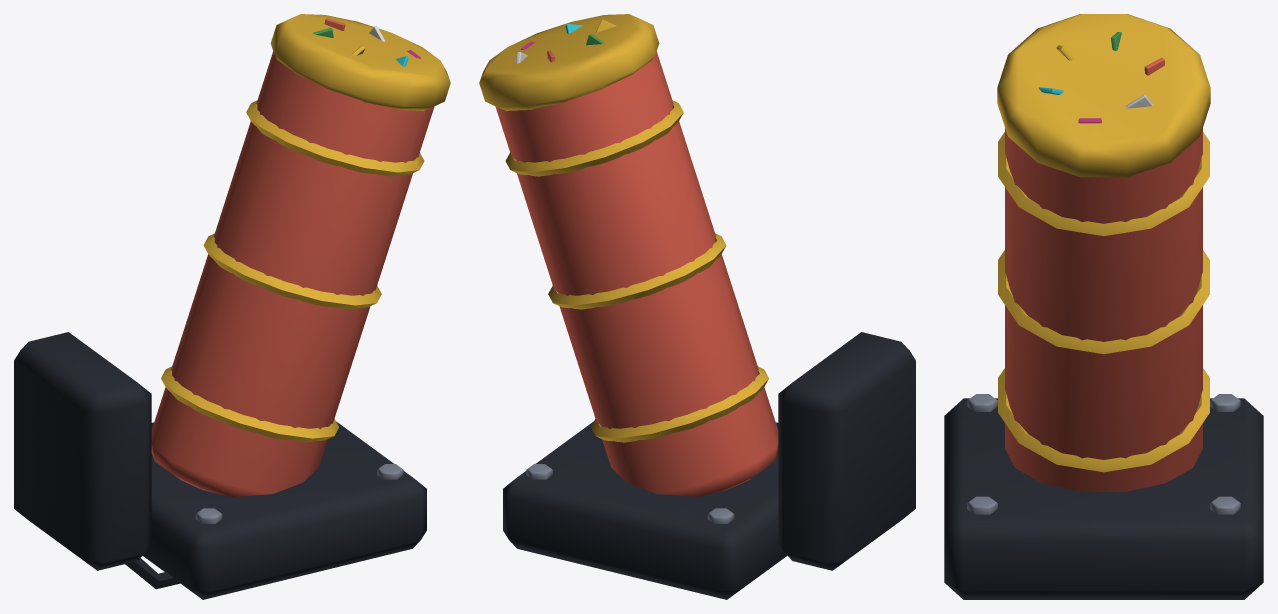
Rendered from SM_Fx_ConfettiCannon.fbx.
3 renders of one model, left to right at view 1: azimuth 30°, elevation 25°; view 2: azimuth 150°, elevation 25°; view 3: azimuth 270°, elevation 25°, orthographic. The views are drawn at different scales.
Visible parts, largest first — view 1: SM_Fx_ConfettiCannon; view 2: SM_Fx_ConfettiCannon; view 3: SM_Fx_ConfettiCannon.
Boxes of the visible parts, x1=… form: SM_Fx_ConfettiCannon: x1=14, y1=14, x2=450, y2=599; SM_Fx_ConfettiCannon: x1=479, y1=14, x2=915, y2=599; SM_Fx_ConfettiCannon: x1=944, y1=14, x2=1263, y2=599.
Bounding box in the file's own units: 68.45 × 81.04 × 42.04.
